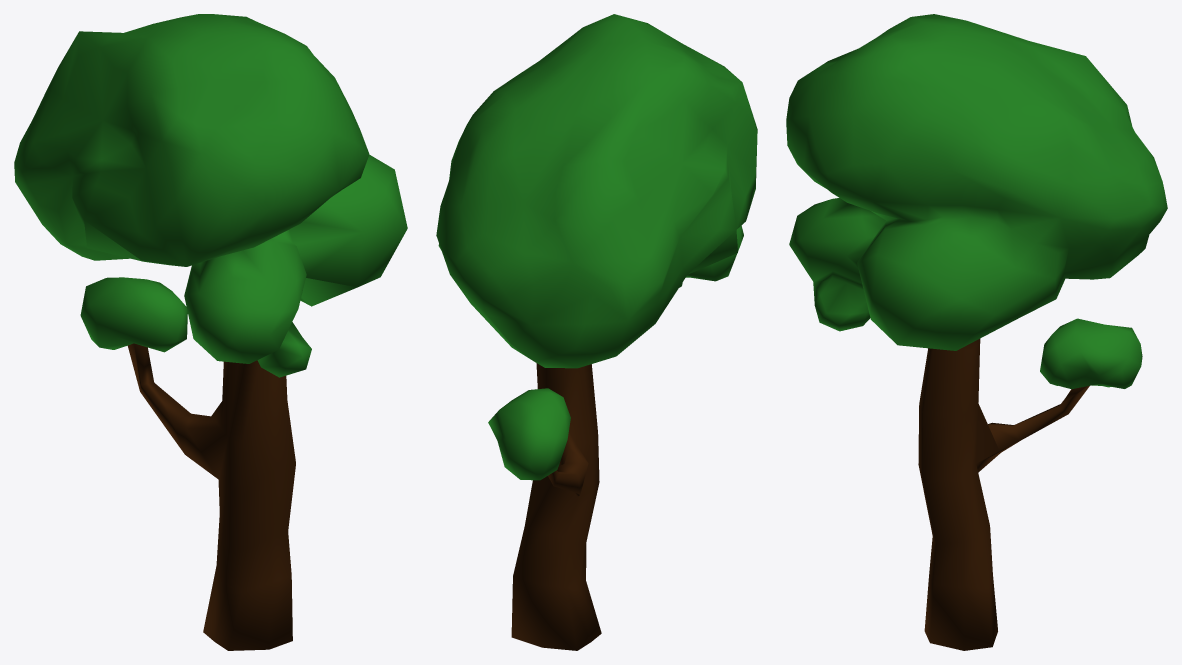
The model's file is tree.gltf.
3 views of the same model, side by side, from view 1: azimuth 30°, elevation 25°; view 2: azimuth 150°, elevation 25°; view 3: azimuth 270°, elevation 25° (orthographic). The views are drawn at different scales.
Visible parts, largest first — view 1: Icosphere.001; view 2: Icosphere.001; view 3: Icosphere.001.
Part boxes in pixels (x1,y1,x2,y2): Icosphere.001: [14, 14, 407, 650]; Icosphere.001: [436, 14, 757, 650]; Icosphere.001: [786, 14, 1167, 650].
Size of the model in its own units: 0.6559 by 1.3 by 0.774.
